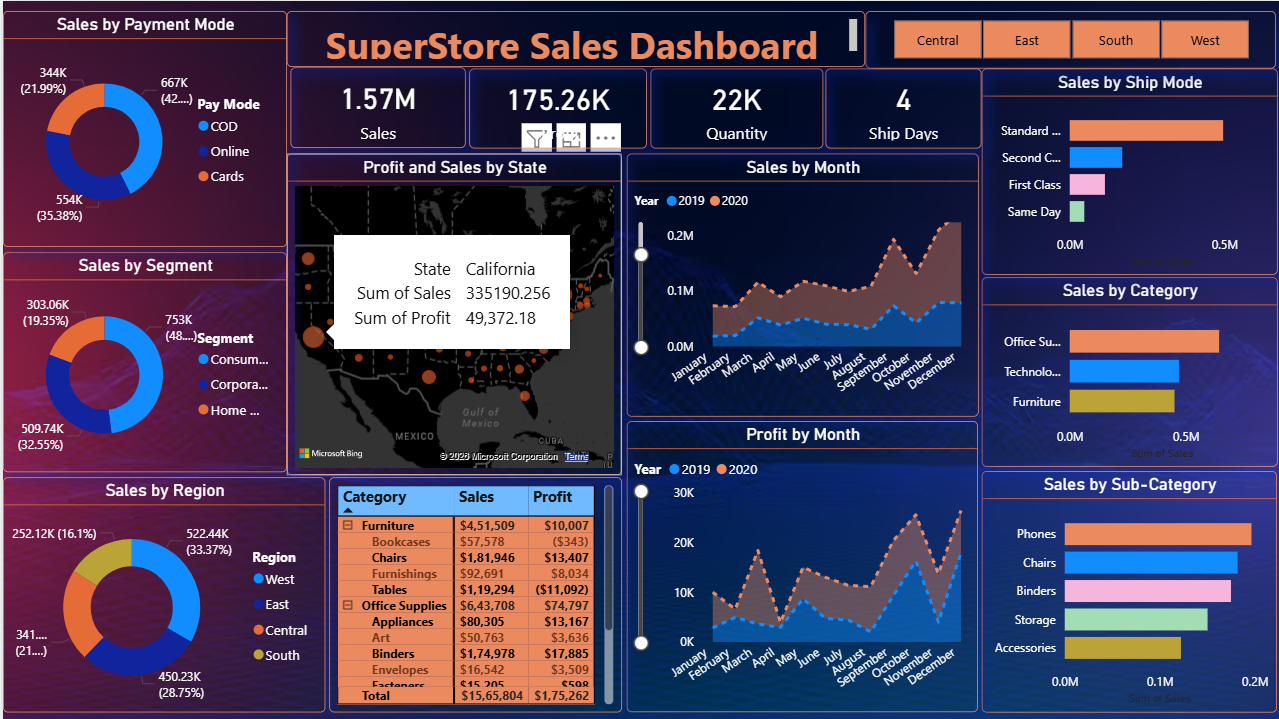

What the dashboard file says about the page in this screenshot:
{"tool":"powerbi","page":{"name":"Dashboard","canvas":[1280,720],"ordinal":0},"visuals":[{"type":"clusteredBarChart","title":"Sales by Category","fields":{"Category":["SuperStore_Sales_Dataset.Category"],"Y":["Sum(SuperStore_Sales_Dataset.Sales)"]},"box":[978.7,276.6,295.6,189.5],"z":0},{"type":"clusteredBarChart","title":"Sales by Sub-Category","fields":{"Y":["Sum(SuperStore_Sales_Dataset.Sales)"],"Category":["SuperStore_Sales_Dataset.Sub-Category"]},"box":[978.8,470,295,241.2],"z":1000},{"type":"clusteredBarChart","title":"Sales by Ship Mode","fields":{"Y":["Sum(SuperStore_Sales_Dataset.Sales)"],"Category":["SuperStore_Sales_Dataset.Ship Mode"]},"box":[978.7,67.9,295.6,206.2],"z":2000},{"type":"stackedAreaChart","title":"Sales by Month","fields":{"Y":["Sum(SuperStore_Sales_Dataset.Sales)"],"Series":["SuperStore_Sales_Dataset.Order Date.Variation.Date Hierarchy.Year"],"Category":["SuperStore_Sales_Dataset.Order Date.Variation.Date Hierarchy.Month","SuperStore_Sales_Dataset.Order Date.Variation.Date Hierarchy.Day"]},"box":[623.4,152.6,351.6,263.4],"z":3000},{"type":"stackedAreaChart","title":"Profit by Month","fields":{"Series":["SuperStore_Sales_Dataset.Order Date.Variation.Date Hierarchy.Year"],"Category":["SuperStore_Sales_Dataset.Order Date.Variation.Date Hierarchy.Month","SuperStore_Sales_Dataset.Order Date.Variation.Date Hierarchy.Day"],"Y":["Sum(SuperStore_Sales_Dataset.Profit)"]},"box":[623.8,420,351.2,291.2],"z":4000},{"type":"map","title":"Profit and Sales by State","fields":{"Category":["SuperStore_Sales_Dataset.State"],"Size":["Sum(SuperStore_Sales_Dataset.Sales)"]},"box":[283.7,152.6,335,321.8],"z":5000},{"type":"donutChart","title":" Sales by Segment","fields":{"Category":["SuperStore_Sales_Dataset.Segment"],"Y":["Sum(SuperStore_Sales_Dataset.Sales)"]},"box":[0,251.2,283.8,220],"z":6000},{"type":"donutChart","title":" Sales by Payment Mode","fields":{"Y":["Sum(SuperStore_Sales_Dataset.Sales)"],"Category":["SuperStore_Sales_Dataset.Payment Mode"]},"box":[0,9.5,283.7,236],"z":7000},{"type":"slicer","fields":{"Values":["SuperStore_Sales_Dataset.Region"]},"box":[863,9.5,410.1,57.2],"z":8000},{"type":"card","fields":{"Values":["Sum(SuperStore_Sales_Dataset.Sales)"]},"box":[287.3,66.8,175.2,81.1],"z":9000},{"type":"card","fields":{"Values":["Sum(SuperStore_Sales_Dataset.Quantity)"]},"box":[647.5,67.5,172.5,80],"z":10000},{"type":"card","fields":{"Values":["Sum(SuperStore_Sales_Dataset.Profit)"]},"box":[466.1,67.9,177.6,79.9],"z":11000},{"type":"card","fields":{"Values":["Avg(SuperStore_Sales_Dataset.AvgDelivery)"]},"box":[822.5,67.5,156.2,80],"z":12000},{"type":"donutChart","title":" Sales by Region","fields":{"Y":["Sum(SuperStore_Sales_Dataset.Sales)"],"Category":["SuperStore_Sales_Dataset.Region"]},"box":[0,476.2,322.5,235],"z":13000},{"type":"textbox","box":[283.8,10,578.8,56.2],"z":14000},{"type":"pivotTable","fields":{"Values":["Sum(SuperStore_Sales_Dataset.Sales)","Sum(SuperStore_Sales_Dataset.Profit)"],"Rows":["SuperStore_Sales_Dataset.Category","SuperStore_Sales_Dataset.Sub-Category"]},"box":[326.2,476.2,292.5,235],"z":15000}]}

Visuals, with their boxes in screenshot pixels (x1, y1, x2, y2), scaled from the page's 1280x720 canvas onto the 1279x719 screenshot:
"Sales by Category" clusteredBarChart: region(978, 276, 1273, 465)
"Sales by Sub-Category" clusteredBarChart: region(978, 469, 1273, 710)
"Sales by Ship Mode" clusteredBarChart: region(978, 68, 1273, 274)
"Sales by Month" stackedAreaChart: region(623, 152, 974, 415)
"Profit by Month" stackedAreaChart: region(623, 419, 974, 710)
"Profit and Sales by State" map: region(283, 152, 618, 474)
" Sales by Segment" donutChart: region(0, 251, 284, 471)
" Sales by Payment Mode" donutChart: region(0, 9, 283, 245)
slicer - SuperStore_Sales_Dataset.Region: region(862, 9, 1272, 67)
card - Sum(SuperStore_Sales_Dataset.Sales): region(287, 67, 462, 148)
card - Sum(SuperStore_Sales_Dataset.Quantity): region(647, 67, 819, 147)
card - Sum(SuperStore_Sales_Dataset.Profit): region(466, 68, 643, 148)
card - Avg(SuperStore_Sales_Dataset.AvgDelivery): region(822, 67, 978, 147)
" Sales by Region" donutChart: region(0, 476, 322, 710)
textbox: region(284, 10, 862, 66)
pivotTable - Sum(SuperStore_Sales_Dataset.Sales) x Sum(SuperStore_Sales_Dataset.Profit): region(326, 476, 618, 710)
